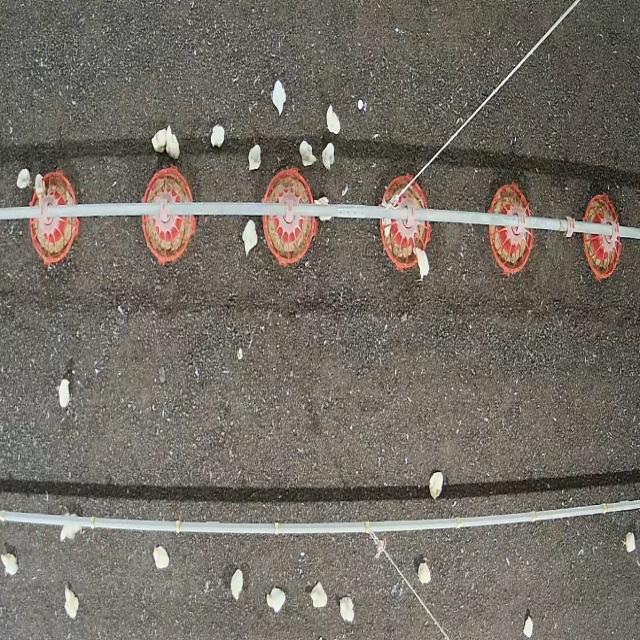broiler: (242, 219, 257, 253), (271, 80, 286, 114), (266, 588, 285, 612), (299, 140, 316, 166), (166, 125, 179, 158), (310, 582, 327, 607), (415, 248, 429, 278), (66, 587, 79, 618), (326, 105, 340, 133), (429, 471, 443, 499), (60, 523, 81, 541), (340, 596, 354, 622), (0, 554, 18, 574), (231, 569, 243, 599), (151, 129, 166, 152), (153, 546, 169, 567), (210, 124, 224, 147), (248, 145, 261, 169), (322, 143, 334, 169), (58, 379, 69, 407), (418, 561, 431, 584), (16, 168, 30, 188), (35, 174, 44, 198), (625, 532, 635, 552)
pipe: (0, 500, 639, 534), (293, 202, 523, 228), (45, 200, 286, 219), (524, 218, 568, 230), (0, 207, 40, 219), (575, 221, 611, 234), (619, 226, 639, 239)
rice: (262, 168, 317, 266), (142, 167, 196, 264), (582, 194, 621, 280), (380, 210, 430, 270), (488, 225, 534, 275), (380, 175, 427, 208), (488, 183, 531, 217)
